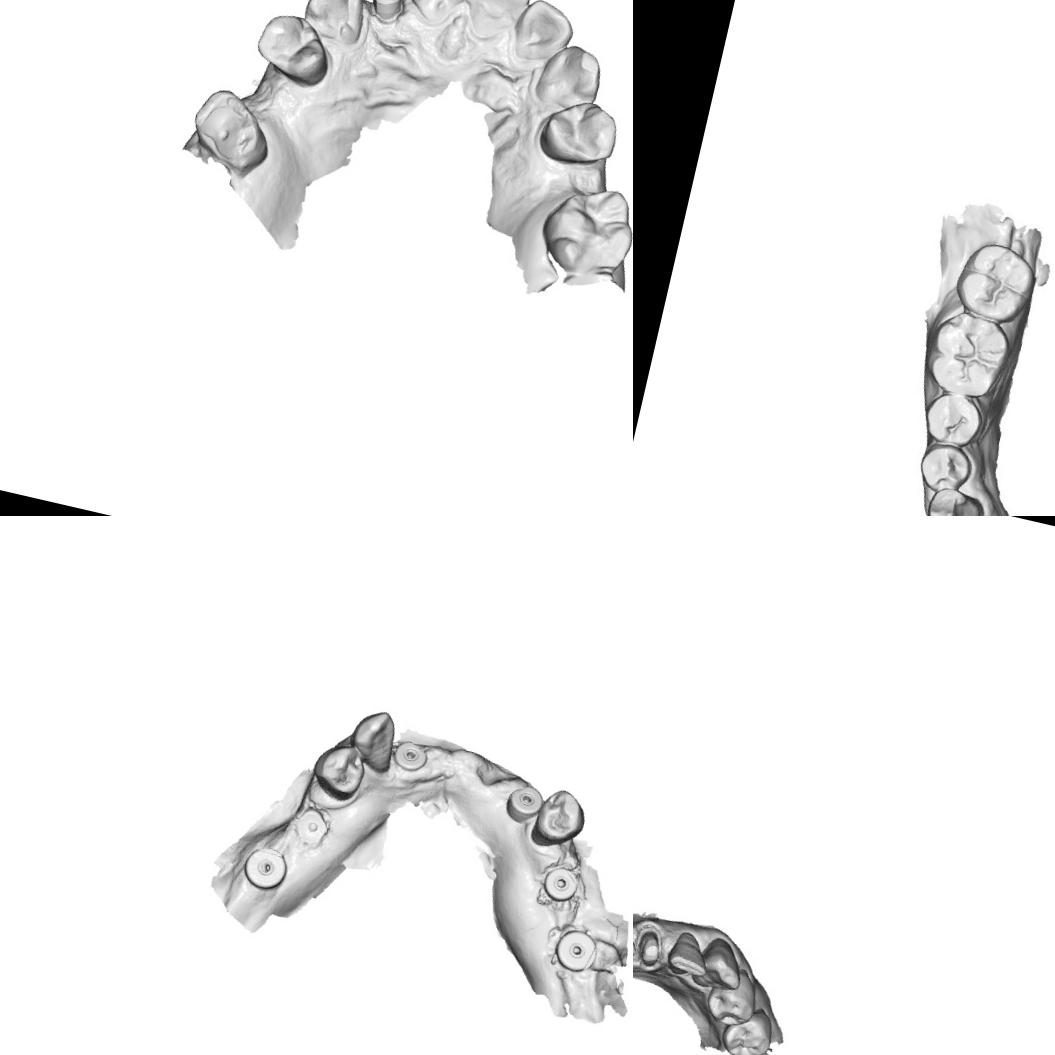canine: (530, 36, 611, 118), (342, 702, 408, 776), (690, 931, 750, 997), (297, 0, 370, 47), (922, 485, 983, 516)
crown: (633, 923, 673, 975)
implant: (233, 838, 299, 900), (284, 798, 342, 857), (547, 922, 604, 978), (536, 856, 588, 909), (388, 736, 438, 782), (504, 780, 542, 822), (365, 0, 408, 24)
incisor: (509, 0, 580, 68), (455, 0, 538, 49), (662, 927, 716, 985), (395, 0, 478, 30), (633, 922, 645, 974)
molar: (531, 174, 633, 288), (182, 82, 279, 178), (922, 305, 1017, 403), (956, 238, 1034, 324)
premolar: (248, 4, 341, 92), (532, 93, 626, 175), (306, 735, 371, 806), (530, 782, 593, 852), (921, 390, 983, 450), (916, 438, 978, 497), (702, 970, 760, 1032), (714, 1001, 779, 1055)
